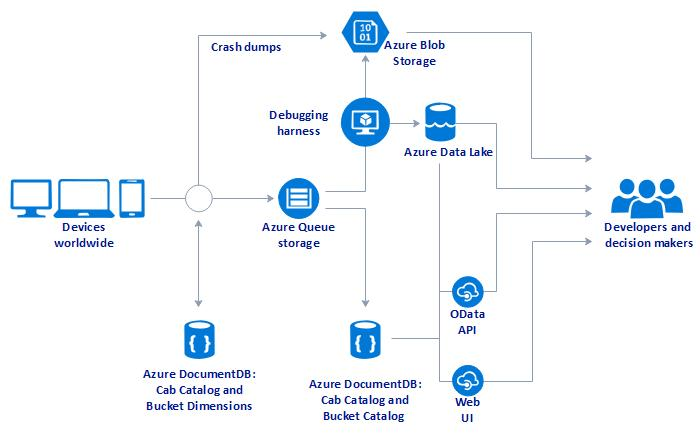API Gateway: (451, 281, 478, 311)
Database: (346, 315, 384, 362), (422, 98, 459, 145), (182, 318, 218, 359)
Storage: (281, 184, 315, 214)
